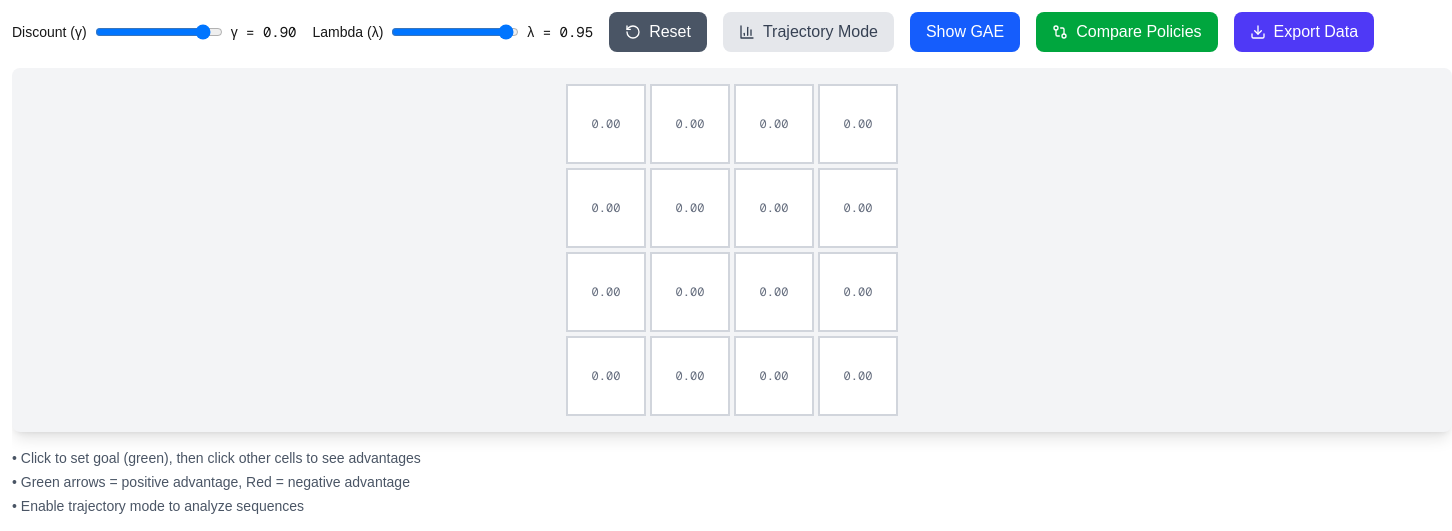
AdvantageFunctionVisualizer Component › should update lambda parameter
The image size is (1452, 531).
Set the slider labelled "Lambda (λ)" to "0.8" at (489, 32), box [391,24,519,40]
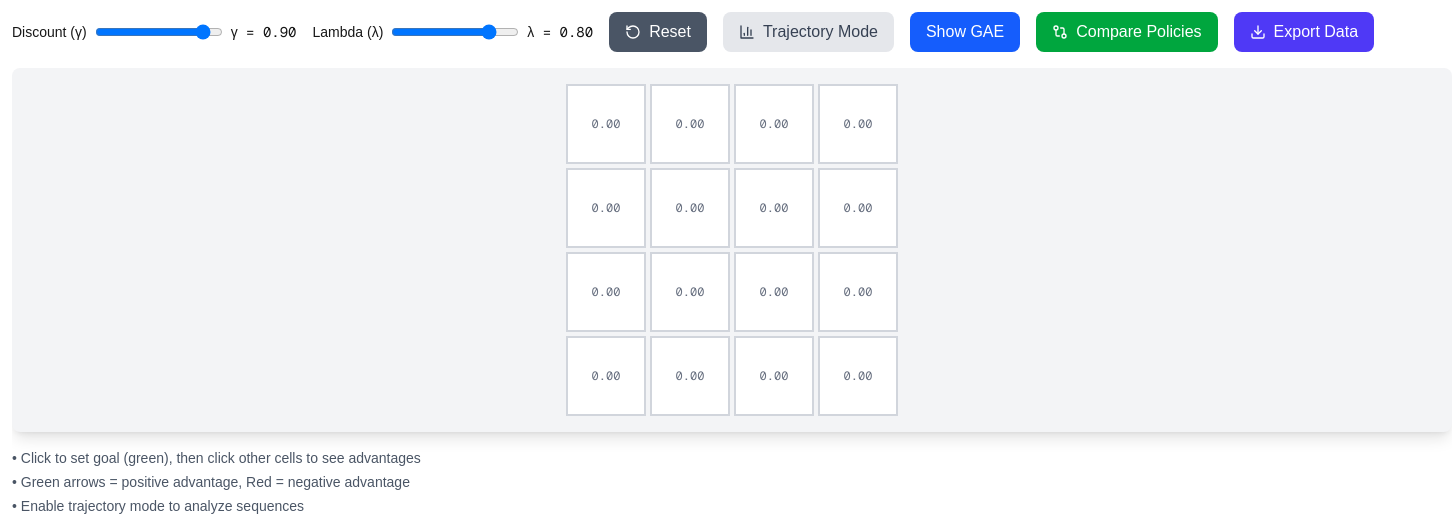
expect the text "λ = 0.80" is shown: met, box [527,22,593,42]
